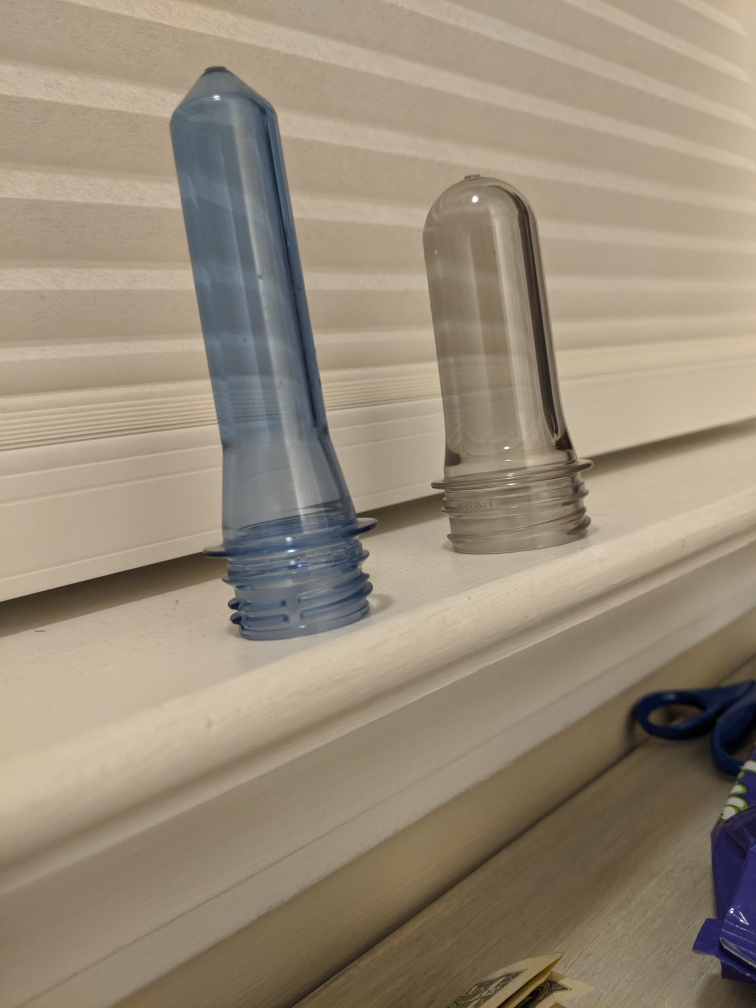preform: (161, 50, 383, 646), (414, 167, 603, 558)
